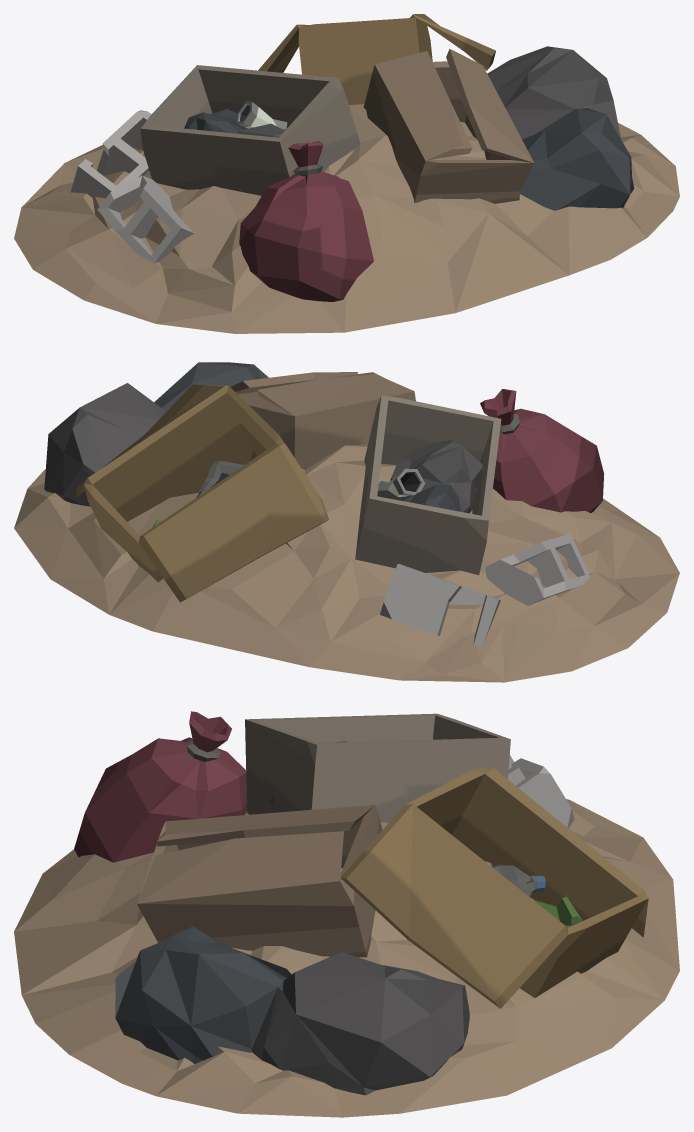
Rendered from SM_Prop_Rubbish_Pile_02.fbx.
The picture shows the model from 3 angles, top to bottom: view 1: azimuth 30°, elevation 25°; view 2: azimuth 150°, elevation 25°; view 3: azimuth 270°, elevation 25°; orthographic projection. The views are drawn at different scales.
Visible parts, largest first — view 1: SM_Prop_Rubbish_Pile_02; view 2: SM_Prop_Rubbish_Pile_02; view 3: SM_Prop_Rubbish_Pile_02.
Boxes of the visible parts, x1,y1,x2,y2 form: SM_Prop_Rubbish_Pile_02: [14, 14, 679, 333]; SM_Prop_Rubbish_Pile_02: [14, 362, 679, 682]; SM_Prop_Rubbish_Pile_02: [14, 711, 679, 1117].
Bounding box in the file's own units: 282 × 79.19 × 220.
